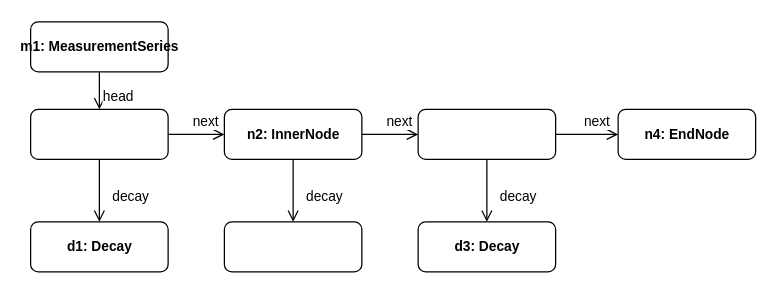
Some shapes in this 778 by 294 pixel diagram are drawn without their labels. Here are the shapes that lost their labels. From the top down, the centre of each, then its label:
At point 98,133: "n1: InnerNode".
At point 486,133: "n3: InnerNode".
At point 292,246: "d2: Decay".
